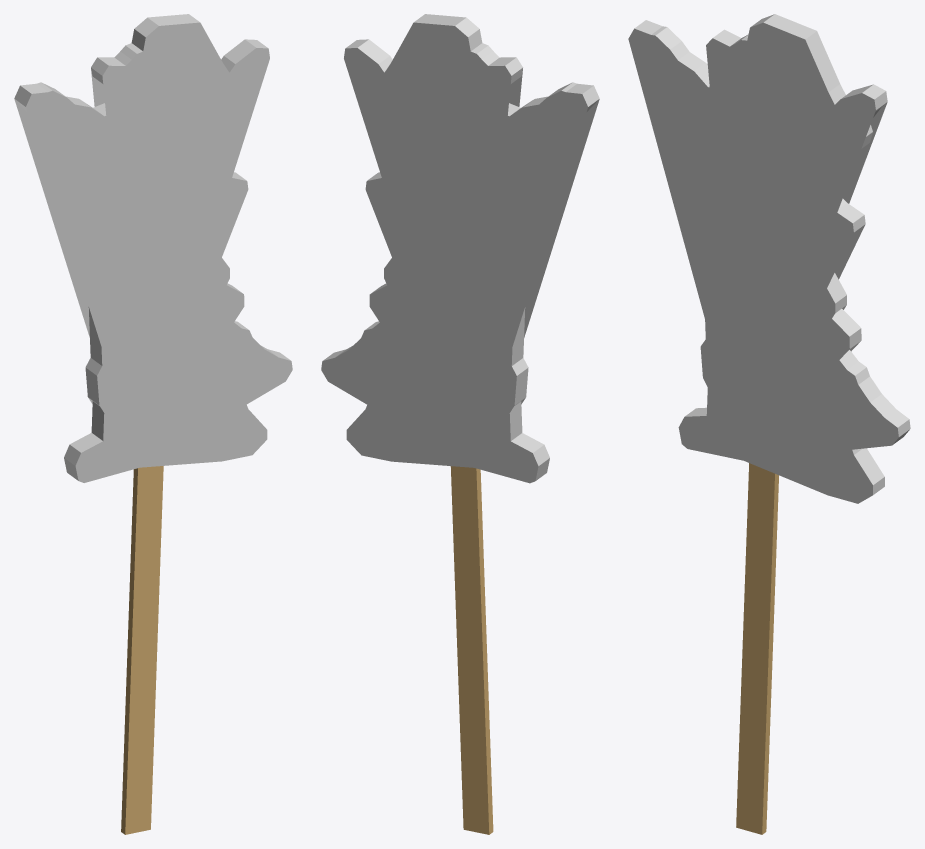
The model's file is FQ_Defeat.fbx.
The picture shows the model from 3 angles, left to right: view 1: azimuth 30°, elevation 25°; view 2: azimuth 150°, elevation 25°; view 3: azimuth 330°, elevation 25°; orthographic projection.
Parts seen in each view (by area): view 1: FQDefeatBaked; view 2: FQDefeatBaked; view 3: FQDefeatBaked.
Part boxes in pixels (x1=…): FQDefeatBaked: x1=14, y1=14, x2=292, y2=834; FQDefeatBaked: x1=321, y1=14, x2=599, y2=834; FQDefeatBaked: x1=628, y1=14, x2=910, y2=834.
Size of the model in its own units: 305 by 878 by 22.95.
